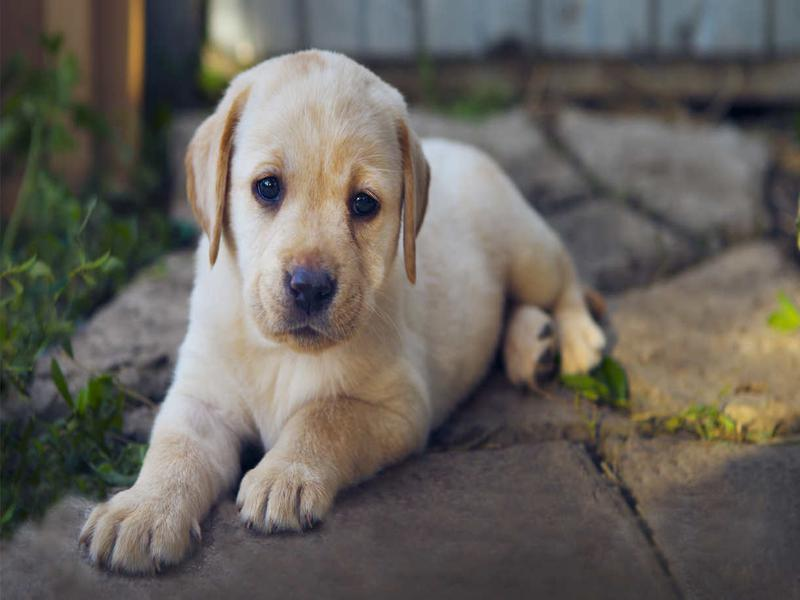dog_down: (82, 43, 607, 572)
